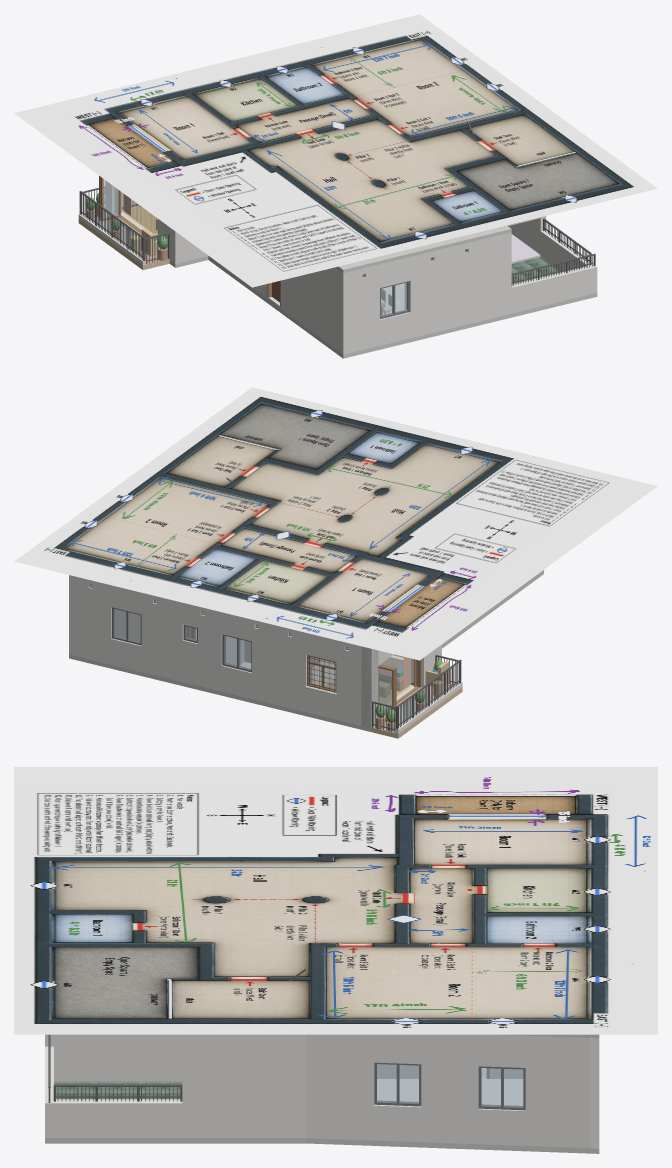
File: MyFlat_V1_3_Hall_Marble.glb
3 views of the same model, one above another, from view 1: azimuth 30°, elevation 25°; view 2: azimuth 150°, elevation 25°; view 3: azimuth 270°, elevation 25° (orthographic). The views are drawn at different scales.
Parts seen in each view (by area): view 1: PLAN_REFERENCE_OVERLAY, WALL_EXT_S_HALL, WALL_EXT_W_HALL, PARAPET_OPENSQ_S, SLAB_FLOOR_STRUCTURAL, BALCONY_RAILING_W, SLAB_ROOF, PARAPET_OPENSQ_E, RAILING_OPENSQ_S, WALL_EXT_E_STAIR, HM_OPENSQ_FINISH, WINDOW_W7_GLASS (+4 smaller); view 2: PLAN_REFERENCE_OVERLAY, WALL_EXT_N_R2, WALL_EXT_N_R1, WALL_EXT_N_KIT, WALL_EXT_N_B2, SLAB_FLOOR_STRUCTURAL, BALCONY_RAILING_W, PILLAR_R1_NW, WALL_EXT_W_R1_BALCONY, WINDOW_W4_GLASS, WINDOW_W2_GLASS, R1_OPC_BALCONY_CURTAIN_SHEER (+1 smaller); view 3: PLAN_REFERENCE_OVERLAY, WALL_EXT_E_R2_TAPERED, WALL_EXT_E_STAIR, WALL_INT_OPENSQ_W, PARAPET_OPENSQ_E, SLAB_FLOOR_STRUCTURAL, HM_OPENSQ_FINISH, HM_FLOOR_R2_FINISH, WINDOW_W5_GLASS, WINDOW_W6_GLASS, RAILING_OPENSQ_E, WALL_EXT_N_R2 (+4 smaller).
Part boxes in pixels (left/top/right/bottom): PLAN_REFERENCE_OVERLAY: left=14, top=14, right=657, bottom=287; WALL_EXT_S_HALL: left=340, top=232, right=511, bottom=354; WALL_EXT_W_HALL: left=209, top=256, right=348, bottom=354; PARAPET_OPENSQ_S: left=511, top=264, right=597, bottom=313; SLAB_FLOOR_STRUCTURAL: left=169, top=256, right=597, bottom=358; BALCONY_RAILING_W: left=79, top=191, right=144, bottom=260; SLAB_ROOF: left=335, top=225, right=511, bottom=273; PARAPET_OPENSQ_E: left=540, top=230, right=593, bottom=272; RAILING_OPENSQ_S: left=511, top=253, right=595, bottom=286; WALL_EXT_E_STAIR: left=508, top=216, right=546, bottom=254; HM_OPENSQ_FINISH: left=511, top=257, right=561, bottom=284; WINDOW_W7_GLASS: left=381, top=282, right=407, bottom=316; PLAN_REFERENCE_OVERLAY: left=14, top=387, right=657, bottom=660; WALL_EXT_N_R2: left=69, top=575, right=171, bottom=679; WALL_EXT_N_R1: left=265, top=623, right=372, bottom=727; WALL_EXT_N_KIT: left=208, top=609, right=264, bottom=701; WALL_EXT_N_B2: left=172, top=600, right=208, bottom=688; SLAB_FLOOR_STRUCTURAL: left=69, top=570, right=543, bottom=731; BALCONY_RAILING_W: left=396, top=659, right=461, bottom=729; PILLAR_R1_NW: left=361, top=646, right=378, bottom=727; WALL_EXT_W_R1_BALCONY: left=362, top=647, right=438, bottom=727; WINDOW_W4_GLASS: left=114, top=609, right=140, bottom=642; WINDOW_W2_GLASS: left=225, top=636, right=251, bottom=669; R1_OPC_BALCONY_CURTAIN_SHEER: left=381, top=654, right=411, bottom=694; PLAN_REFERENCE_OVERLAY: left=14, top=767, right=657, bottom=1034; WALL_EXT_E_R2_TAPERED: left=306, top=1034, right=590, bottom=1148; WALL_EXT_E_STAIR: left=182, top=1034, right=305, bottom=1137; WALL_INT_OPENSQ_W: left=54, top=1034, right=182, bottom=1081; PARAPET_OPENSQ_E: left=54, top=1099, right=182, bottom=1137; SLAB_FLOOR_STRUCTURAL: left=45, top=1138, right=599, bottom=1153; HM_OPENSQ_FINISH: left=54, top=1081, right=182, bottom=1099; HM_FLOOR_R2_FINISH: left=377, top=1079, right=523, bottom=1105; WINDOW_W5_GLASS: left=481, top=1068, right=523, bottom=1106; WINDOW_W6_GLASS: left=377, top=1064, right=418, bottom=1103; RAILING_OPENSQ_E: left=53, top=1084, right=182, bottom=1101; WALL_EXT_N_R2: left=590, top=1038, right=599, bottom=1148.
Size of what is drawn, in the model's own units: 16.28 by 4.33 by 16.55.
106 materials, 5 textured.
